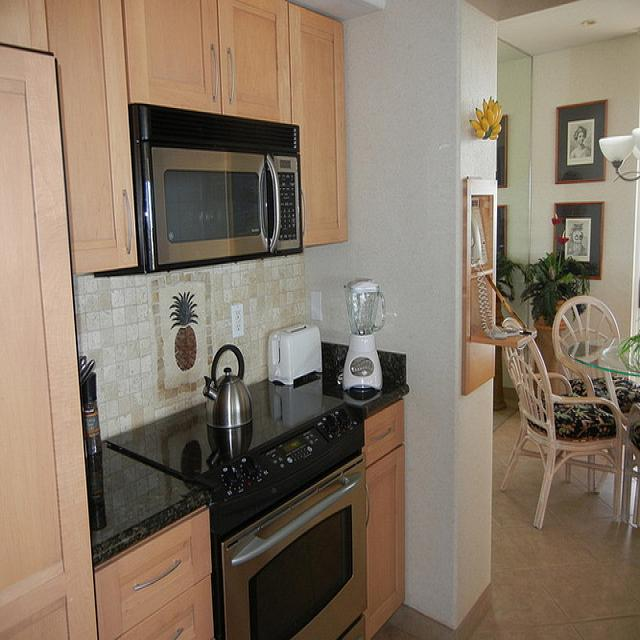chair: (500, 318, 630, 530), (552, 294, 624, 408), (622, 403, 639, 526)
dining table: (569, 329, 640, 376)
